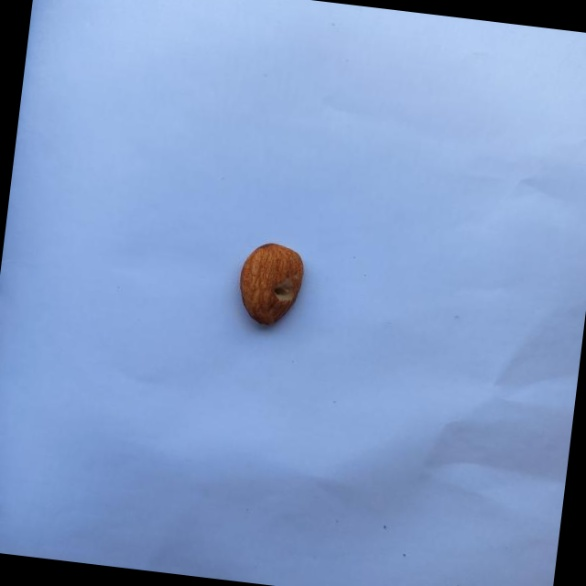grade3: (233, 236, 312, 334)
